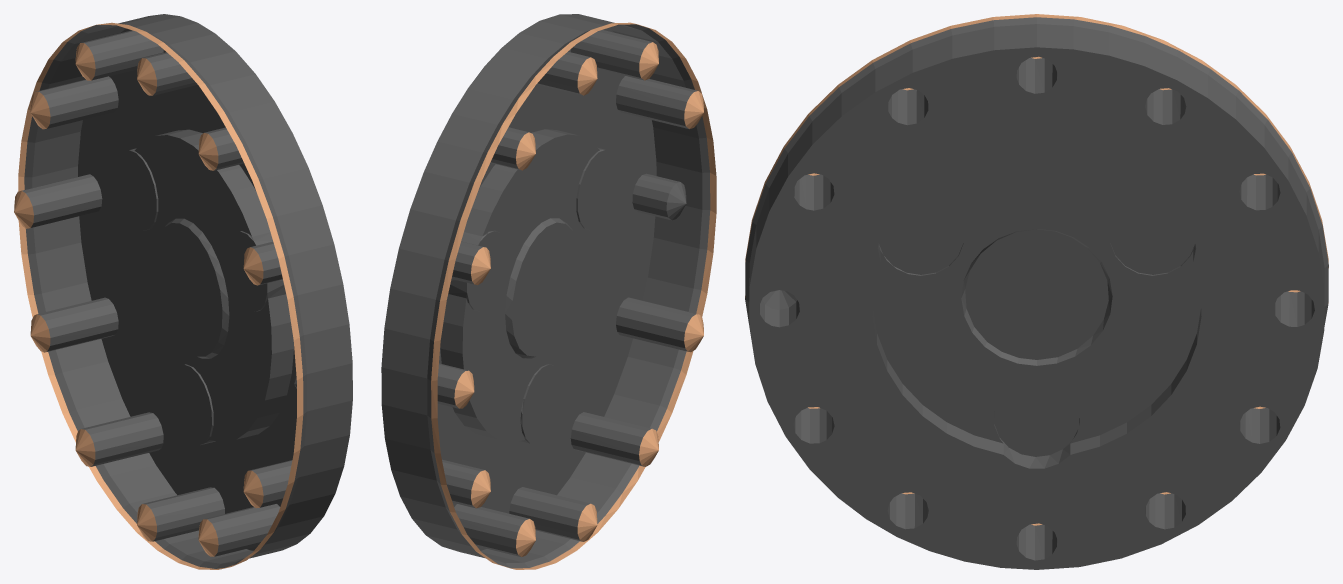
3 renders of one model, left to right at view 1: azimuth 30°, elevation 25°; view 2: azimuth 150°, elevation 25°; view 3: azimuth 270°, elevation 25°, orthographic. The views are drawn at different scales.
Visible parts, largest first — view 1: link_06; view 2: link_06; view 3: link_06.
Part boxes in pixels (x1,y1,x2,y2): link_06: (14, 14, 352, 569); link_06: (381, 14, 716, 569); link_06: (745, 14, 1328, 569).
Bounding box in the file's own units: 0.023 × 0.1417 × 0.142.
